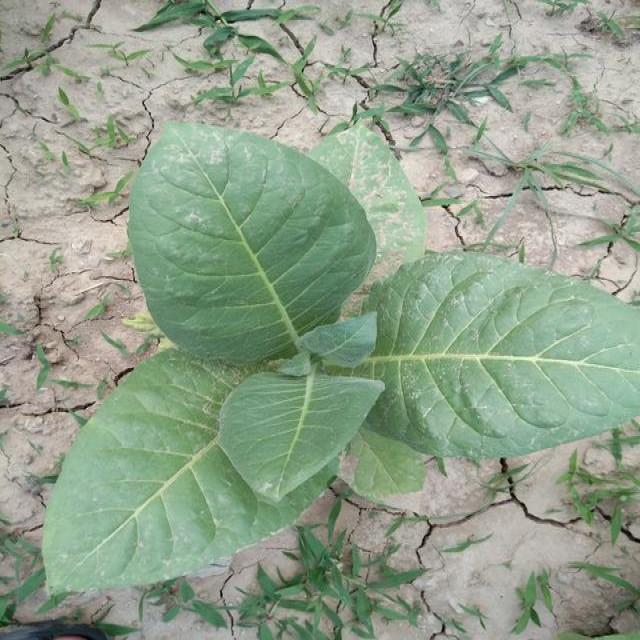crop: (54, 100, 640, 583)
